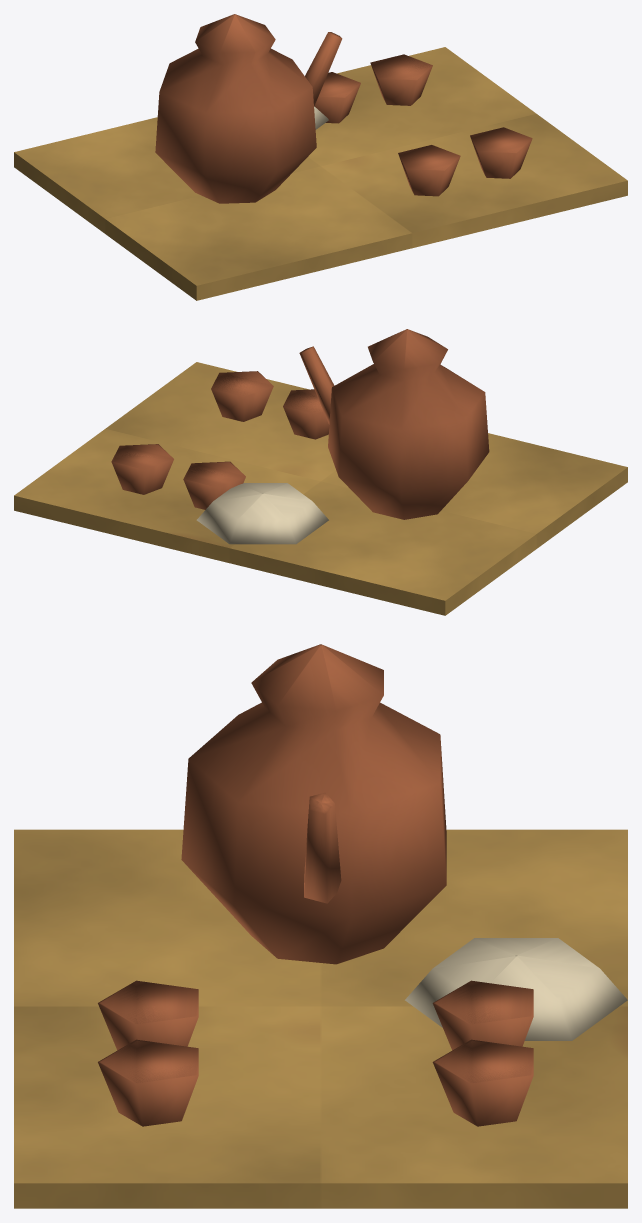
The model's file is TeaSet_1_LOD1.gltf.
3 renders of one model, top to bottom at view 1: azimuth 30°, elevation 25°; view 2: azimuth 150°, elevation 25°; view 3: azimuth 270°, elevation 25°, orthographic. The views are drawn at different scales.
Parts seen in each view (by area): view 1: TeaSet_1_LOD1; view 2: TeaSet_1_LOD1; view 3: TeaSet_1_LOD1.
Part boxes in pixels (x1=…): TeaSet_1_LOD1: x1=14, y1=14, x2=627, y2=300; TeaSet_1_LOD1: x1=14, y1=329, x2=627, y2=615; TeaSet_1_LOD1: x1=14, y1=644, x2=627, y2=1208.
Size of the model in its own units: 0.6 by 0.25 by 0.44.
Materials: 3 (3 with a texture image).
